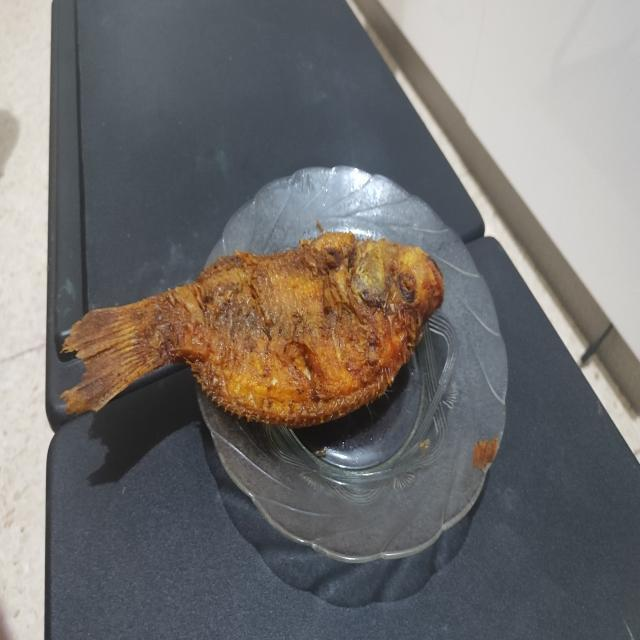ikan_mujair: (61, 232, 444, 427)
